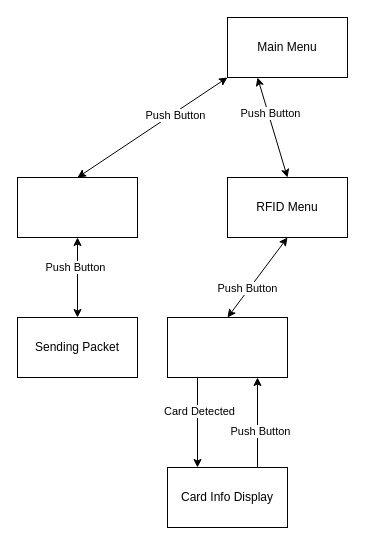
Some shapes in this 365 by 545 pixel diagram are drawn without their labels. The box of each missing label's shape, as (x1, y1, x2, y2) in pixels:
Evil Apple Juice Choose Device Menu: (16, 176, 138, 238)
RFID Read UID: (166, 316, 288, 378)
